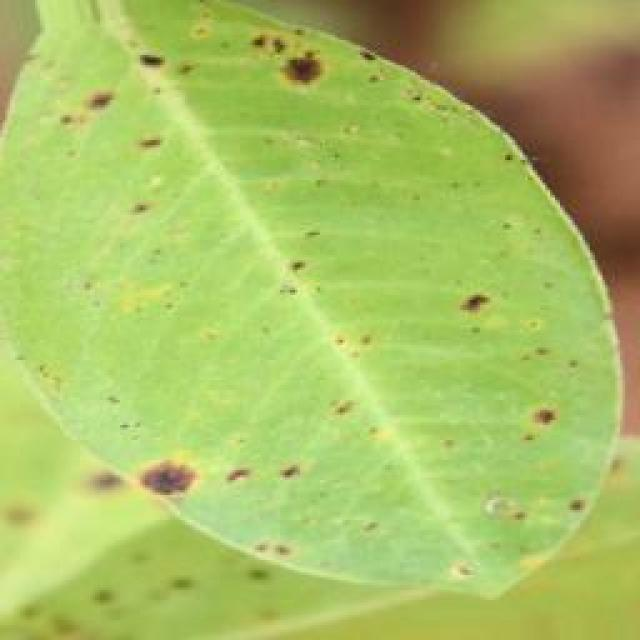Yellowish: (31, 10, 579, 537)
